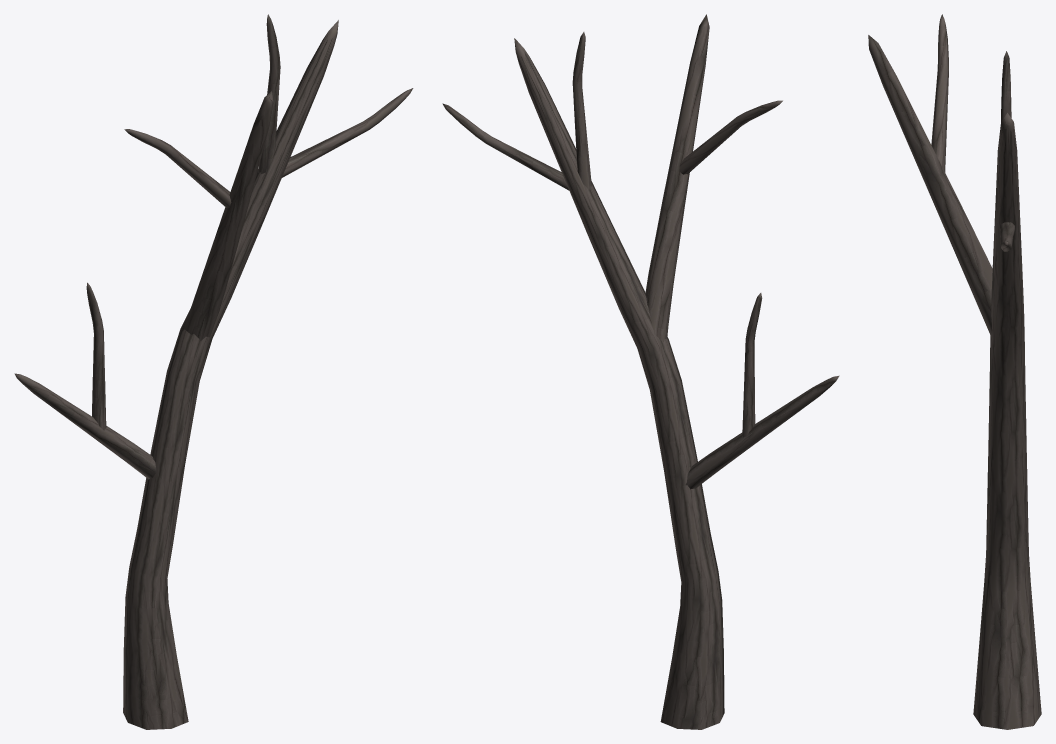
The model's file is quaternius-ultimate-stylized-nature-dead-tree-9.glb.
3 renders of one model, left to right at view 1: azimuth 30°, elevation 25°; view 2: azimuth 150°, elevation 25°; view 3: azimuth 270°, elevation 25°, orthographic. The views are drawn at different scales.
Visible parts, largest first — view 1: DeadTree_9; view 2: DeadTree_9; view 3: DeadTree_9.
Boxes of the visible parts, x1,y1,x2,y2 form: DeadTree_9: (14,14,413,729); DeadTree_9: (442,14,839,729); DeadTree_9: (868,14,1041,729).
Bounding box in the file's own units: 2.06 × 3.3 × 0.7175.
1 material, 1 textured.
